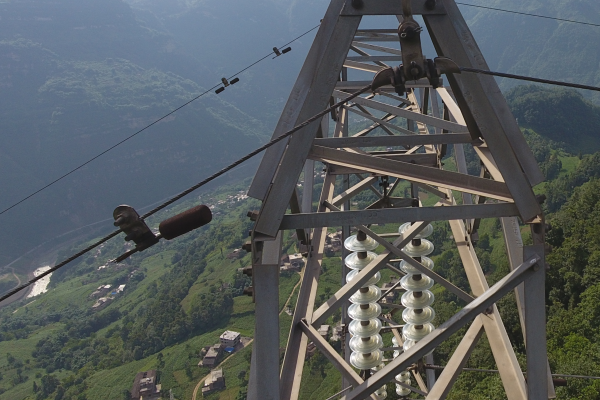damper: (213, 75, 239, 94)
damper_defect: (108, 198, 214, 265), (269, 45, 292, 60)
